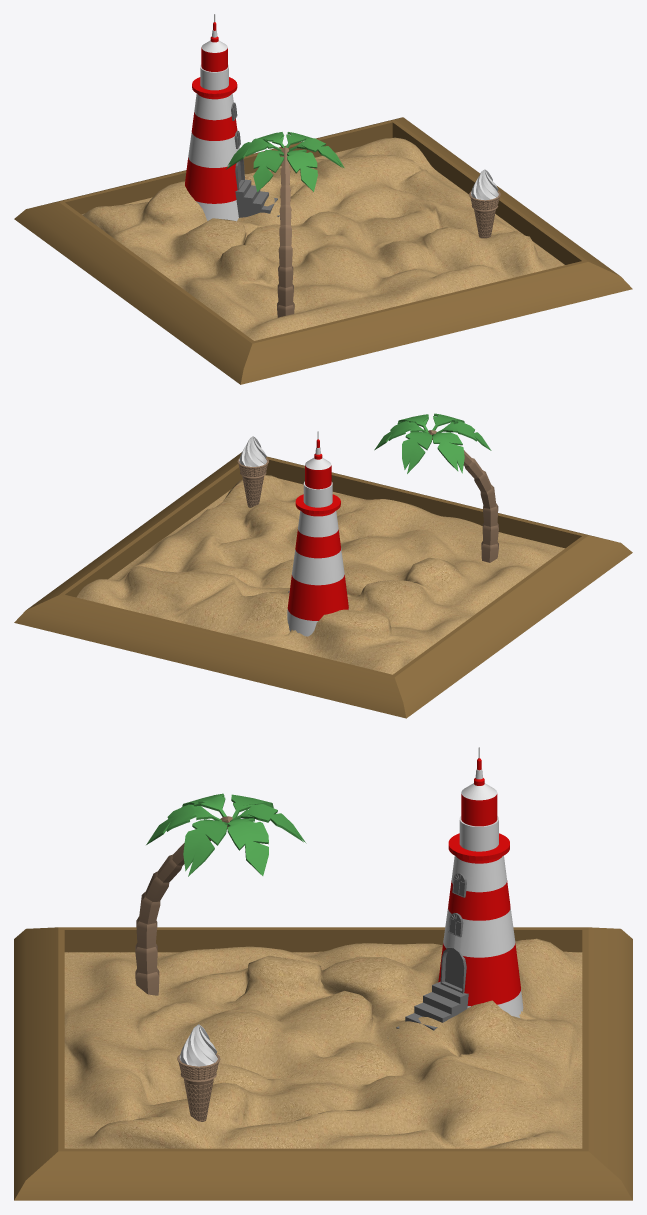
File: Beach Export.fbx
The picture shows the model from 3 angles, top to bottom: view 1: azimuth 30°, elevation 25°; view 2: azimuth 150°, elevation 25°; view 3: azimuth 270°, elevation 25°; orthographic projection. The views are drawn at different scales.
Parts seen in each view (by area): view 1: pPlane1, pCube1, Lighthouse__Textured_:pCylinder5, Palm_Tree__Textured_:pCylinder11, Ice_cream__Finished_:pCone3; view 2: pPlane1, pCube1, Lighthouse__Textured_:pCylinder5, Palm_Tree__Textured_:pCylinder11, Ice_cream__Finished_:pCone3; view 3: pPlane1, pCube1, Lighthouse__Textured_:pCylinder5, Palm_Tree__Textured_:pCylinder11, Ice_cream__Finished_:pCone3.
Boxes of the visible parts, bbox=[...] form: pPlane1: bbox=[81, 137, 564, 340]; pCube1: bbox=[14, 117, 632, 384]; Lighthouse__Textured_:pCylinder5: bbox=[185, 14, 279, 221]; Palm_Tree__Textured_:pCylinder11: bbox=[226, 132, 344, 317]; Ice_cream__Finished_:pCone3: bbox=[469, 169, 500, 238]; pPlane1: bbox=[76, 475, 564, 674]; pCube1: bbox=[14, 452, 632, 718]; Lighthouse__Textured_:pCylinder5: bbox=[287, 431, 348, 636]; Palm_Tree__Textured_:pCylinder11: bbox=[374, 413, 498, 562]; Ice_cream__Finished_:pCone3: bbox=[237, 436, 268, 507]; pPlane1: bbox=[64, 938, 582, 1148]; pCube1: bbox=[14, 927, 632, 1200]; Lighthouse__Textured_:pCylinder5: bbox=[388, 747, 523, 1038]; Palm_Tree__Textured_:pCylinder11: bbox=[135, 793, 306, 995]; Ice_cream__Finished_:pCone3: bbox=[177, 1024, 220, 1121].
Bounding box in the file's own units: 15 × 7.69 × 15.
10 materials, 1 textured.
